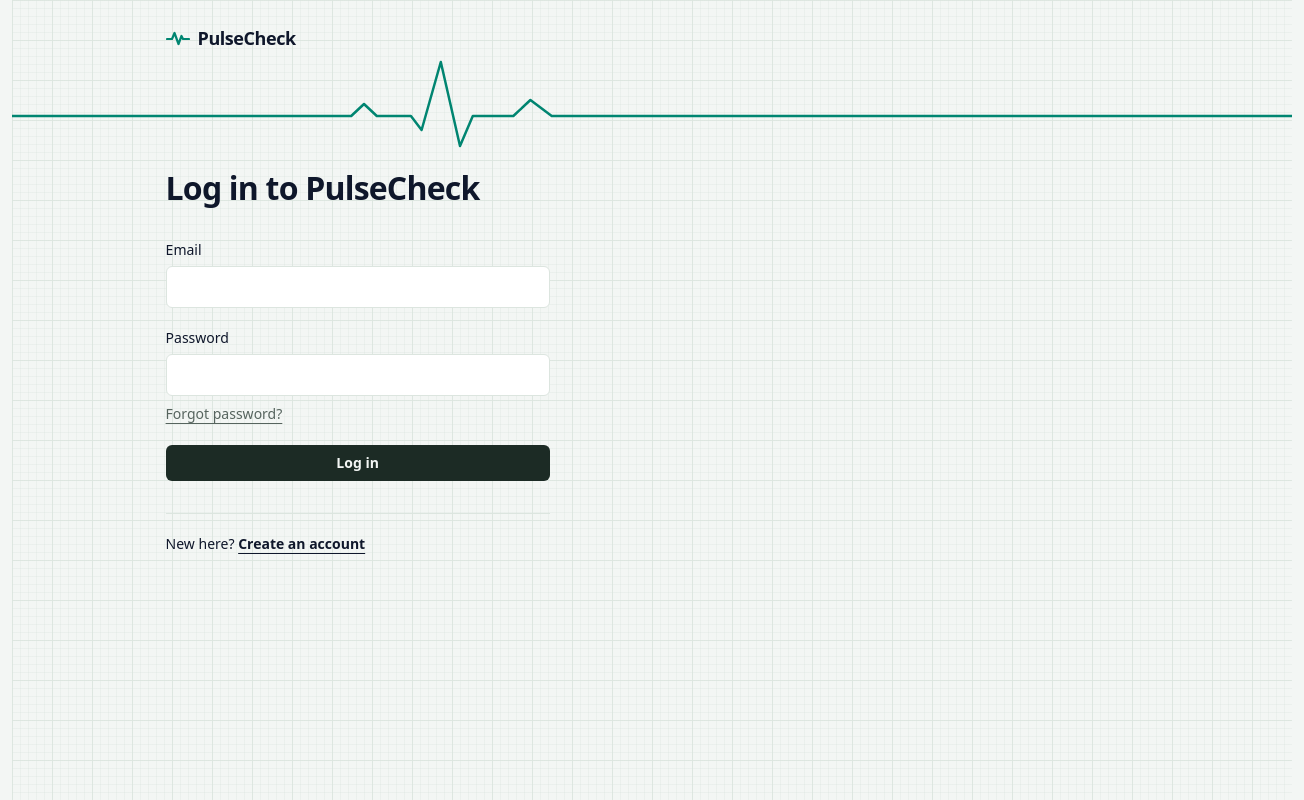
Test: Login › shows the server error inline
The width and height of the screenshot is (1304, 800).
Expected: the heading "Log in to PulseCheck" is shown, left=166, top=166, right=480, bottom=209
Type "ada@example.com" into the field labelled "Email" at coordinates (358, 287), box left=166, top=266, right=550, bottom=308
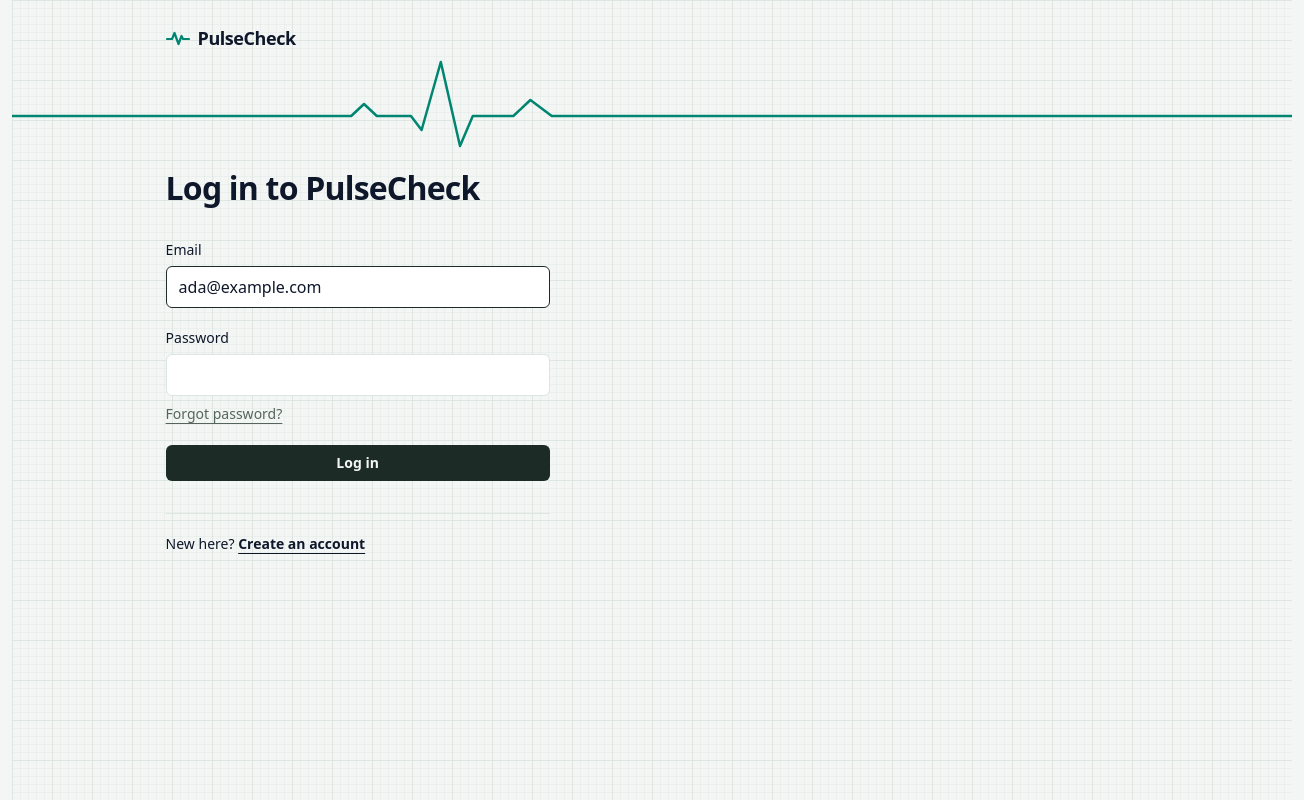
Type "wrong-password" into the password field labelled "Password" at coordinates (358, 375), box left=166, top=354, right=550, bottom=396
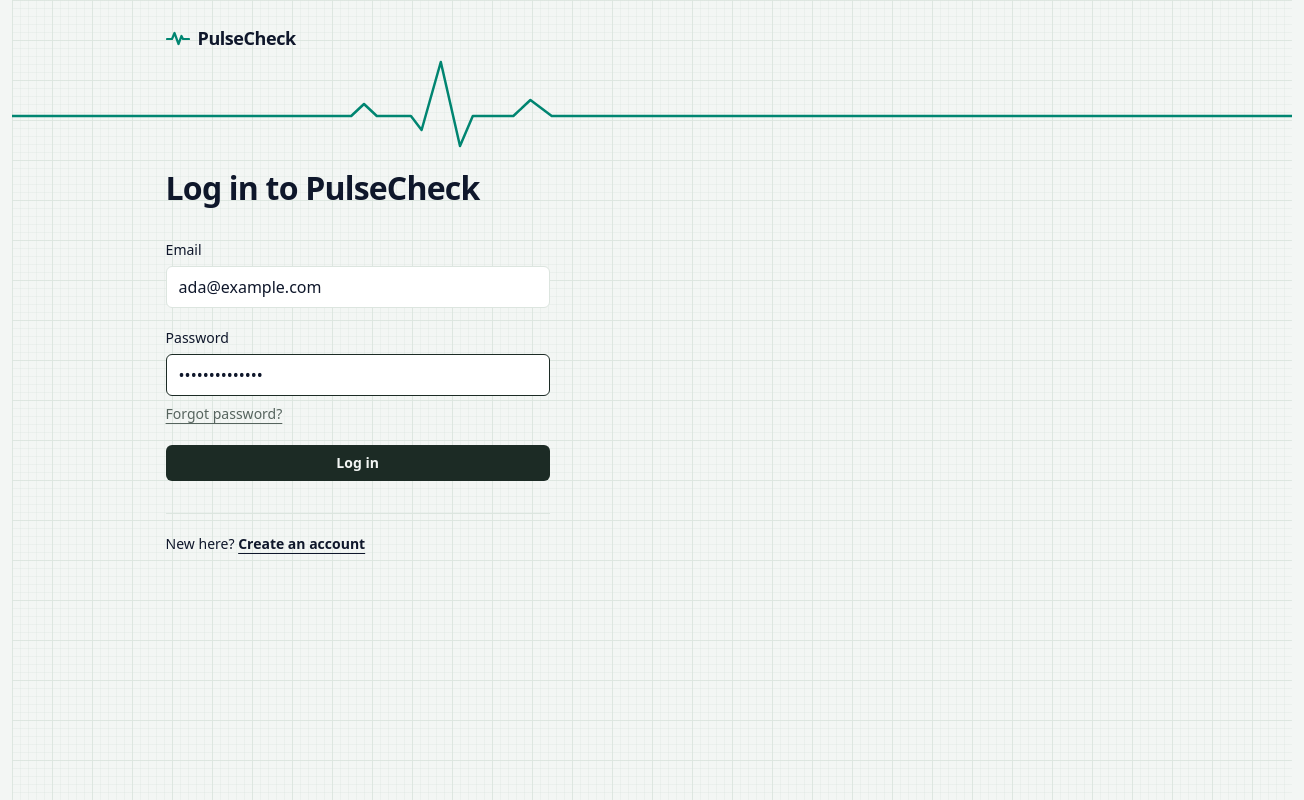
Click the button "Log in" at coordinates (358, 463), box left=166, top=445, right=550, bottom=481
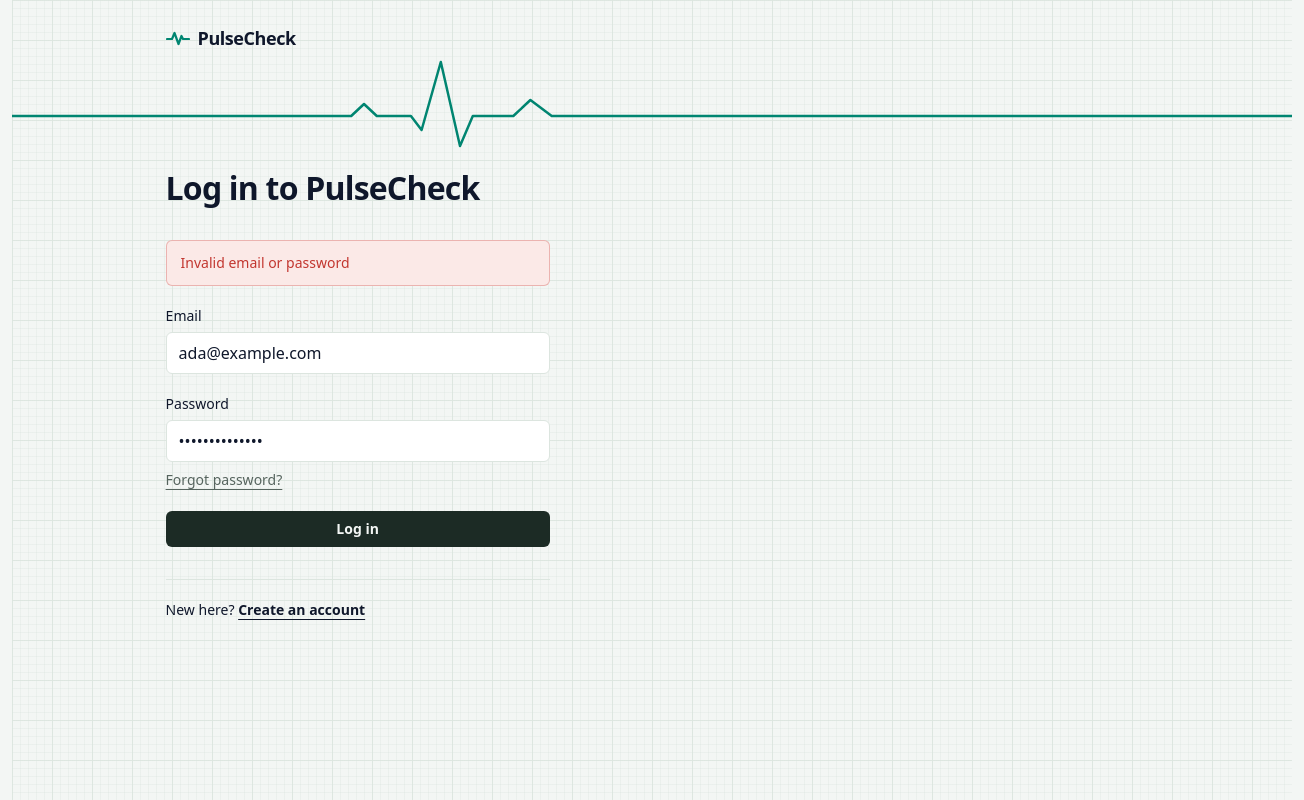
Expected: the button "Log in" is enabled, left=166, top=511, right=550, bottom=547
Result: the message reads "Invalid email or password" at left=181, top=253, right=350, bottom=272
